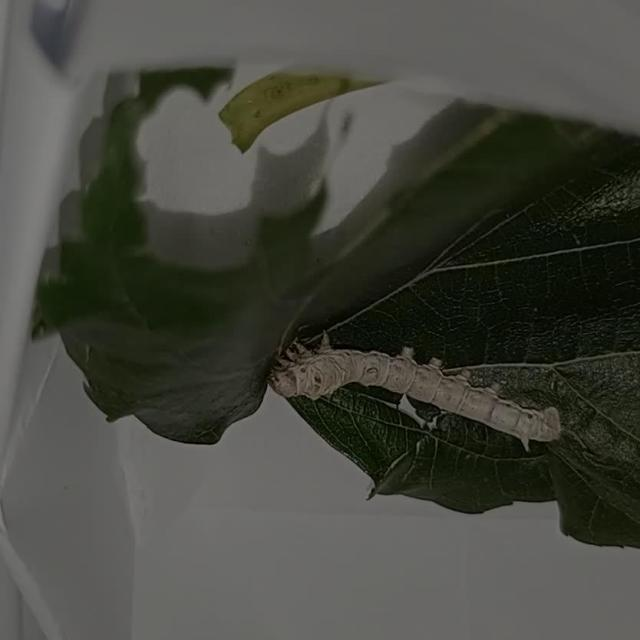Healthy: (248, 300, 596, 472)
